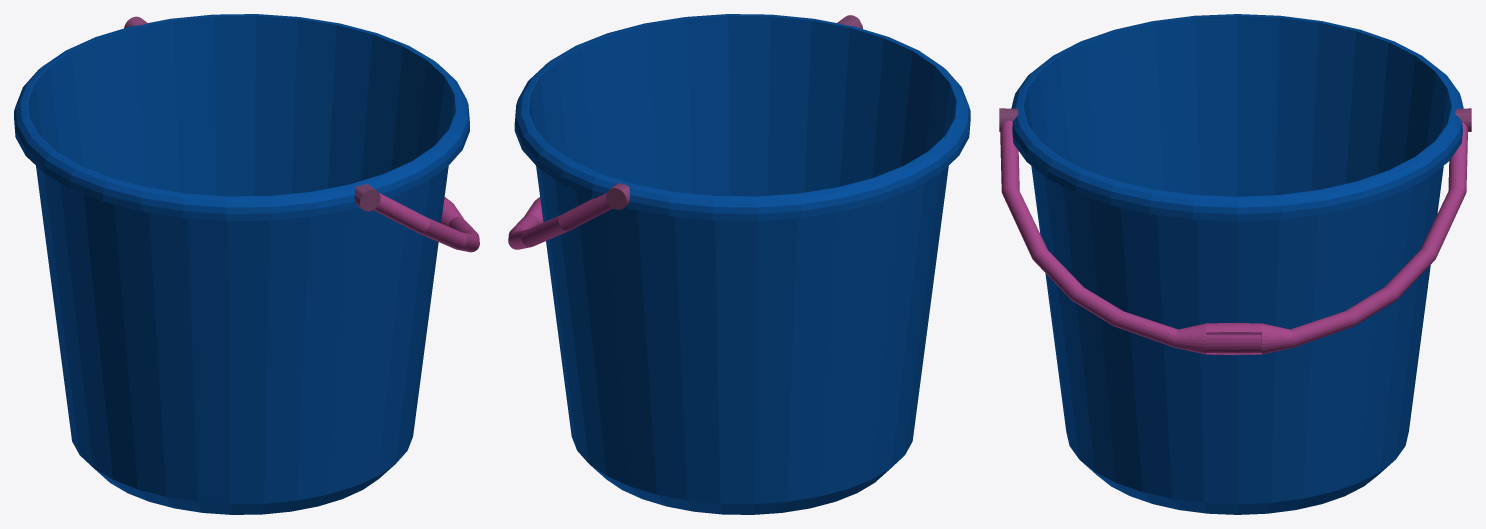
The model's file is balti.glb.
3 views of the same model, side by side, from view 1: azimuth 30°, elevation 25°; view 2: azimuth 150°, elevation 25°; view 3: azimuth 270°, elevation 25° (orthographic).
Parts seen in each view (by area): view 1: Cylinder, Cylinder.002; view 2: Cylinder, Cylinder.002; view 3: Cylinder, Cylinder.002.
Boxes of the visible parts, x1,y1,x2,y2 form: Cylinder: (14, 14, 469, 514); Cylinder.002: (124, 16, 479, 252); Cylinder: (514, 14, 970, 514); Cylinder.002: (508, 15, 862, 249); Cylinder: (1011, 14, 1463, 514); Cylinder.002: (999, 108, 1471, 355).
Size of the model in its own units: 6.76 by 5.64 by 6.98.
